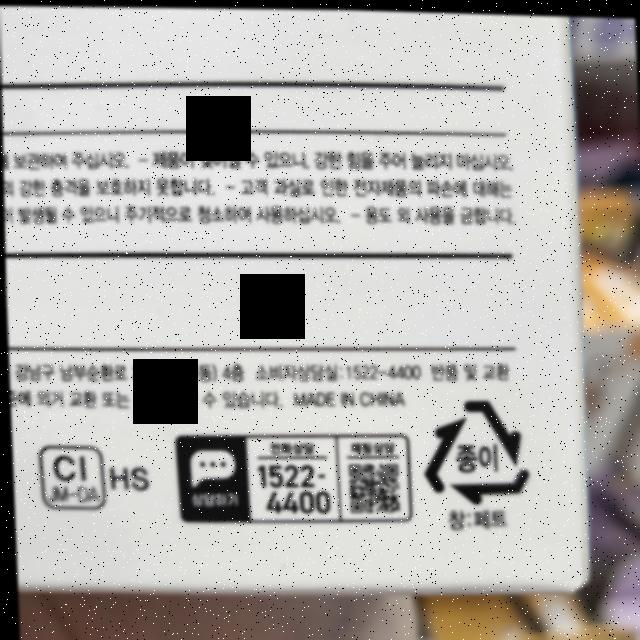Paper: (417, 391, 530, 505)
